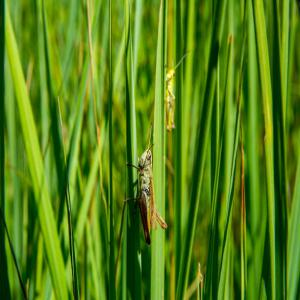locust: (124, 106, 165, 255)
